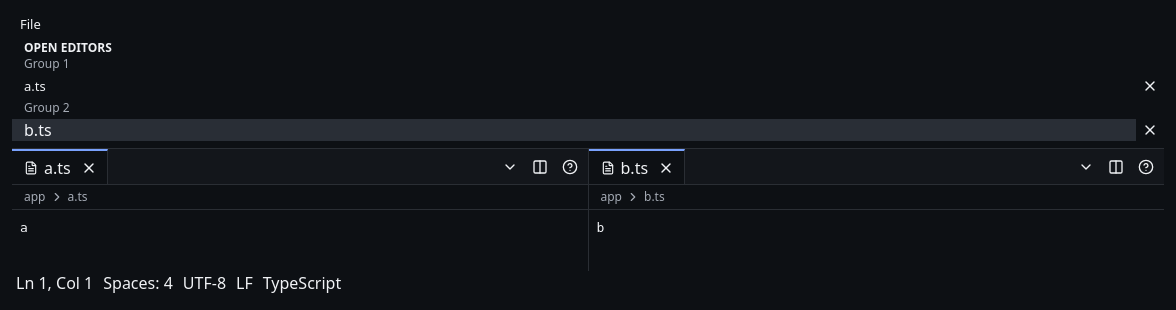
Scenario: groups side by side — plan 07, B-33 › closes a group with its last tab (S-223)
What coordinates should you click on to do the following:
click the 2nd button named "Close b.ts"
I would click on:
 (666, 168)
Its box is [652, 154, 680, 182].
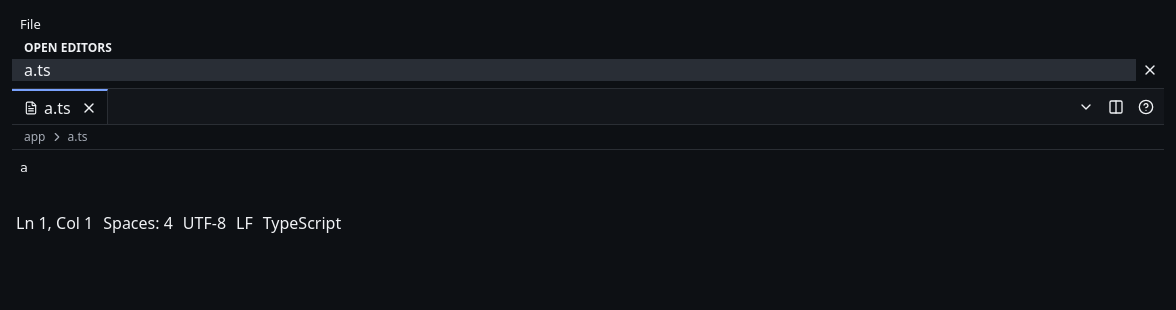
Expected: the text box named "Editor of a.ts" is shown, [12, 150, 1164, 211]
Result: the heading "Group 2" is gone
